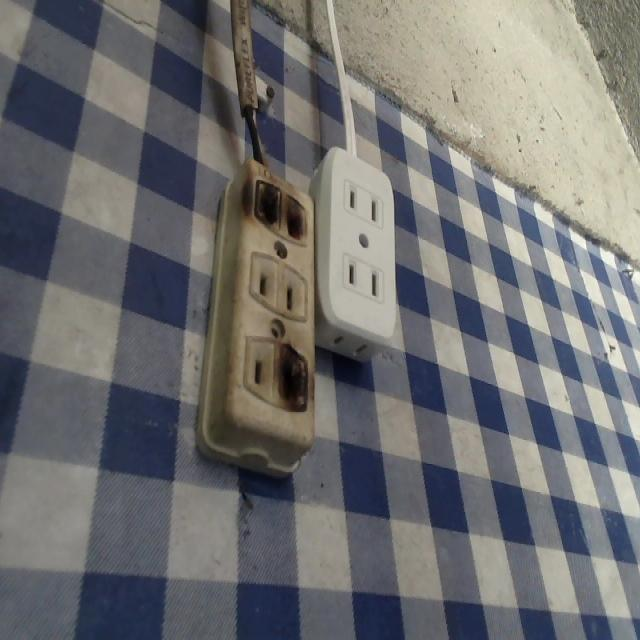-: (249, 176, 314, 252), (273, 342, 309, 422)
